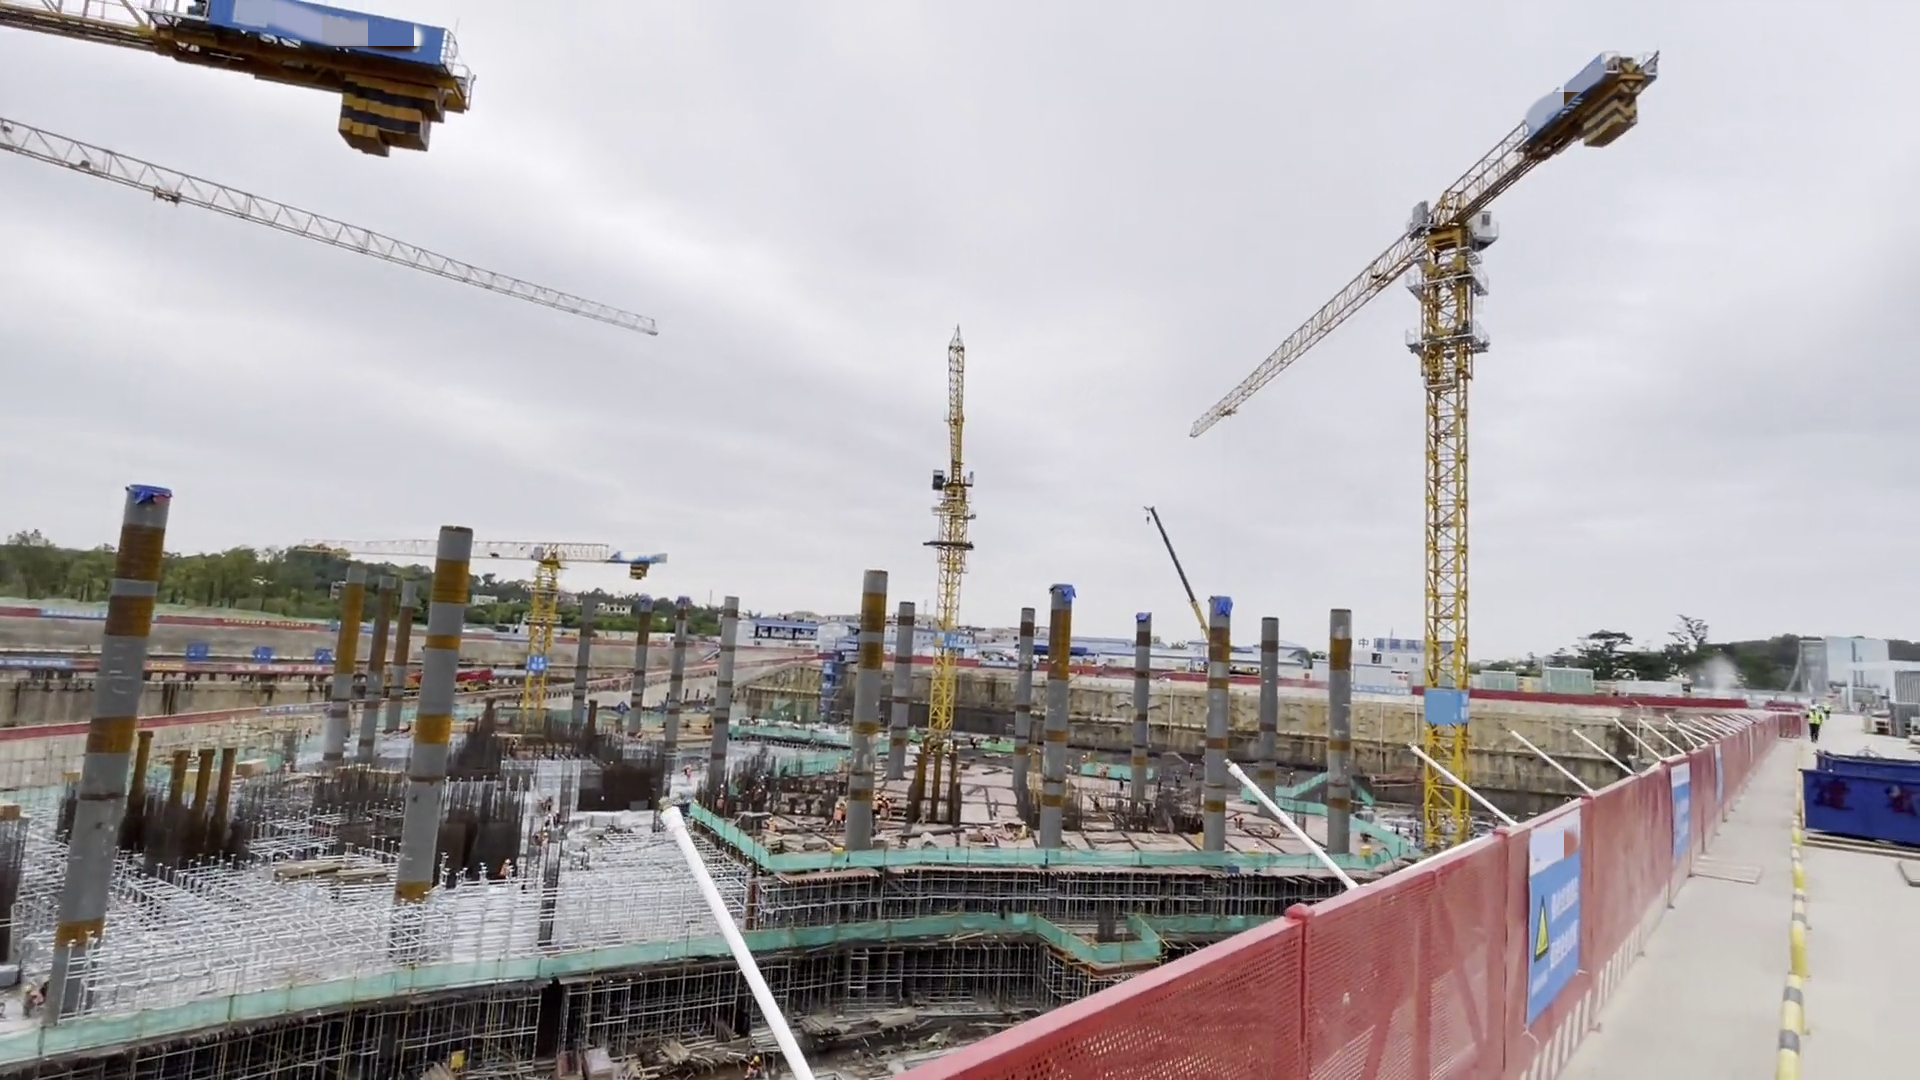fence: (1000, 837, 1513, 1080), (1582, 703, 1754, 961)
hopper: (1801, 746, 1920, 848)
slogan: (1520, 870, 1586, 1000)
